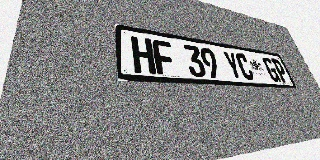3: (183, 44, 207, 77)
9: (199, 47, 222, 78)
C: (234, 52, 256, 80)
F: (152, 39, 177, 75)
G: (261, 57, 281, 82)
H: (131, 36, 156, 74)
P: (271, 58, 290, 83)
Y: (222, 50, 244, 80)
